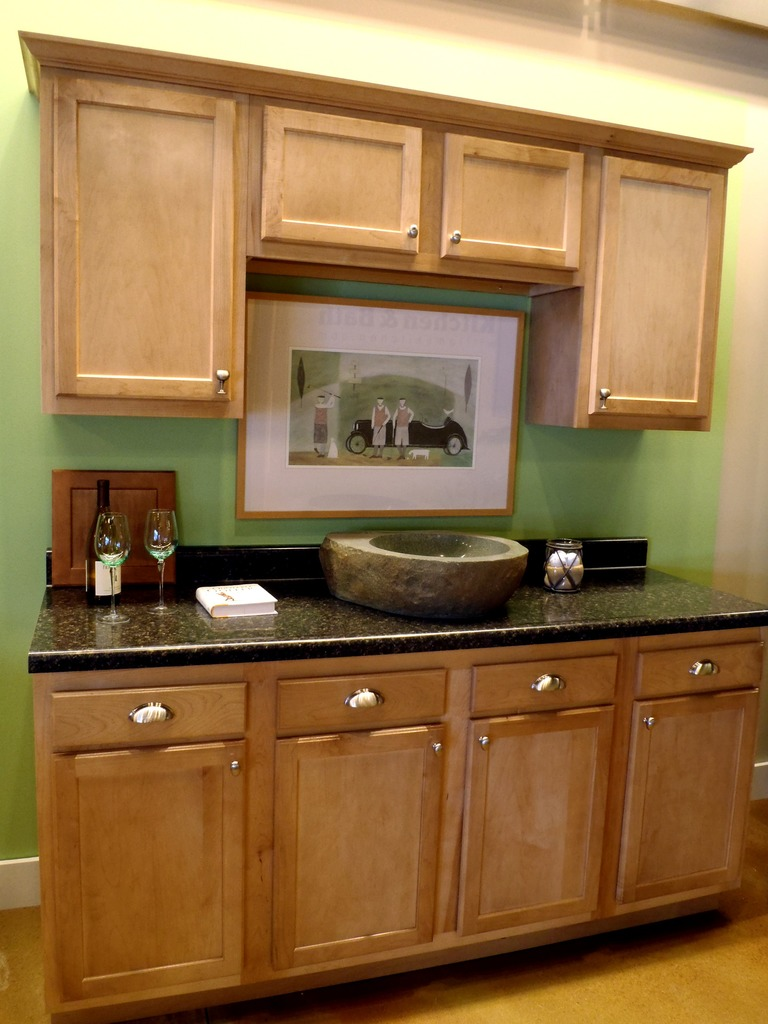cabinet door: (61, 88, 230, 402), (53, 745, 242, 984), (277, 747, 439, 927), (604, 178, 704, 420), (470, 727, 597, 912), (269, 121, 417, 249), (638, 705, 738, 887), (449, 149, 580, 269), (55, 697, 242, 734), (283, 681, 439, 725), (475, 664, 611, 710), (647, 639, 757, 693)
handle: (343, 678, 382, 715), (131, 698, 178, 727), (531, 671, 574, 694), (691, 650, 724, 678), (212, 361, 232, 400), (423, 728, 442, 765), (449, 223, 469, 252), (407, 210, 419, 247), (639, 708, 657, 732), (475, 728, 491, 754), (598, 384, 611, 415), (229, 755, 243, 782)
